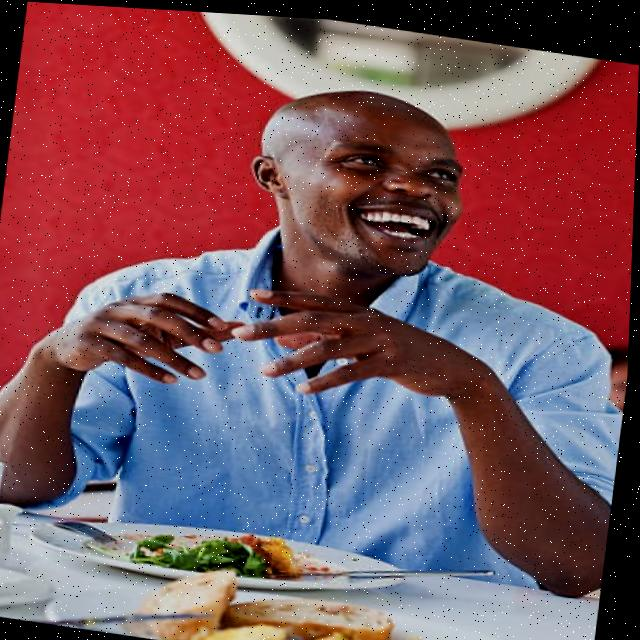eating-person: (0, 59, 631, 640)
